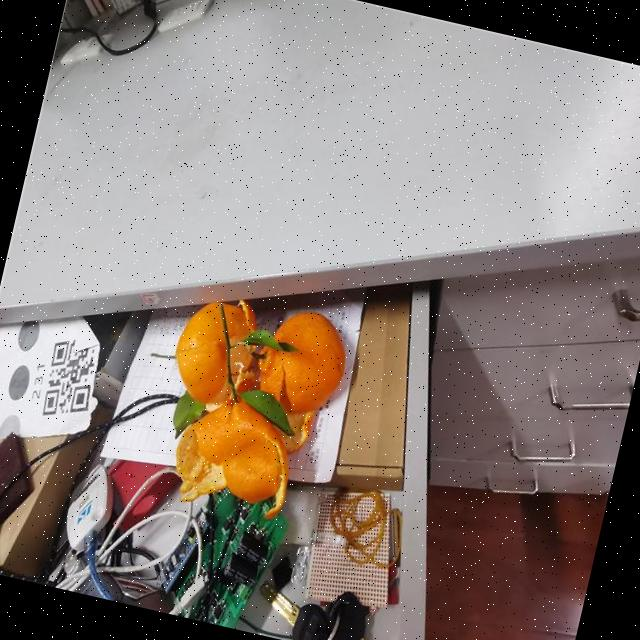orange-peel: (140, 280, 356, 530)
